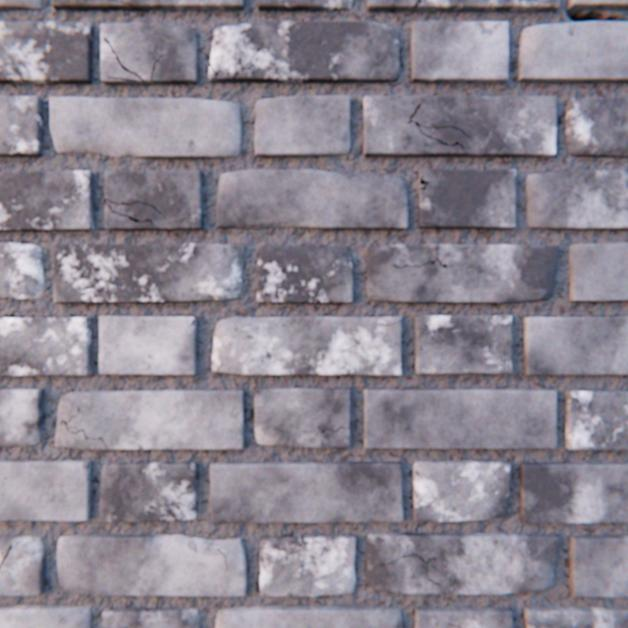brick: (366, 531, 558, 593), (209, 22, 399, 83), (51, 98, 241, 159), (363, 97, 555, 157), (58, 533, 246, 594), (211, 461, 402, 521), (364, 389, 555, 448), (217, 170, 407, 229), (56, 389, 244, 448), (366, 244, 557, 302), (55, 244, 245, 302), (212, 316, 401, 374), (517, 23, 627, 83), (519, 462, 627, 522), (523, 316, 627, 374), (410, 22, 507, 84), (524, 171, 627, 229), (101, 24, 198, 85), (412, 460, 509, 520), (101, 461, 198, 521), (260, 534, 355, 595), (255, 97, 350, 157), (255, 387, 350, 447), (0, 23, 93, 84), (106, 171, 202, 230), (0, 171, 94, 231), (100, 316, 197, 374), (418, 170, 515, 228), (414, 315, 511, 373), (0, 460, 92, 520), (0, 317, 92, 375), (257, 246, 352, 302), (216, 604, 402, 627), (564, 98, 627, 158), (564, 390, 627, 449), (568, 534, 627, 595), (568, 243, 627, 301), (0, 534, 46, 594), (0, 97, 43, 157), (366, 0, 559, 13), (0, 388, 44, 445), (0, 243, 45, 298), (523, 605, 627, 627), (0, 604, 92, 627), (53, 0, 244, 11), (104, 606, 201, 627), (415, 606, 511, 627), (258, 0, 353, 12), (567, 0, 627, 10), (0, 0, 43, 11)
crack: (407, 104, 469, 149), (105, 38, 144, 82), (564, 0, 627, 23), (106, 198, 156, 226), (62, 405, 80, 428), (0, 542, 12, 568), (151, 56, 163, 81), (95, 0, 133, 7), (392, 261, 428, 268), (69, 429, 95, 438), (425, 569, 439, 584), (401, 543, 416, 556), (318, 426, 346, 432), (210, 64, 218, 80), (108, 78, 139, 82), (419, 177, 428, 190), (435, 257, 446, 267), (447, 621, 465, 627), (98, 437, 107, 446), (420, 223, 440, 227), (234, 70, 242, 80), (426, 556, 435, 564), (413, 0, 420, 8), (190, 319, 195, 326)
